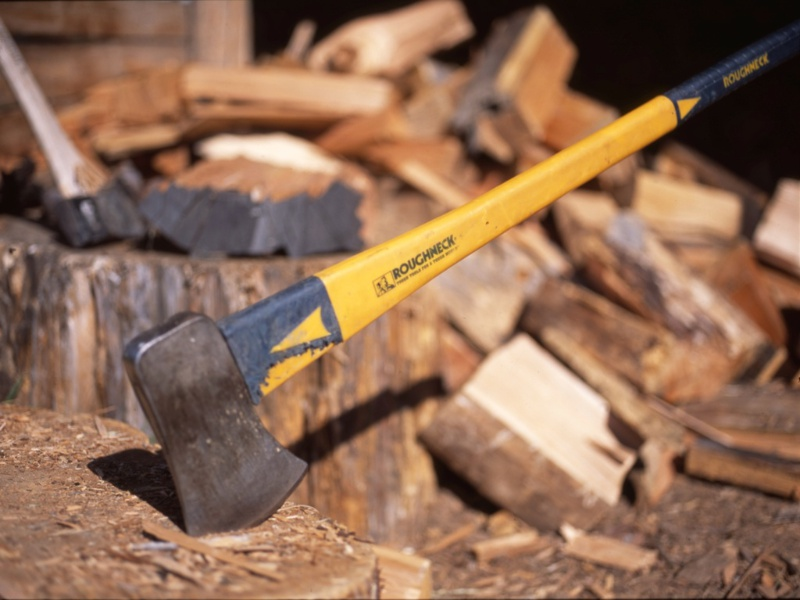axe: (88, 251, 403, 544)
